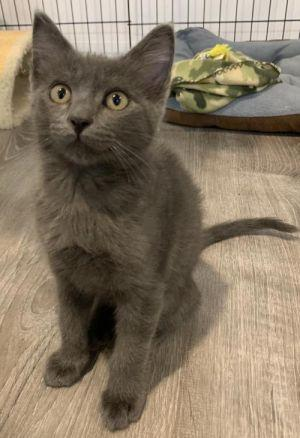rblue: (11, 8, 189, 188)
